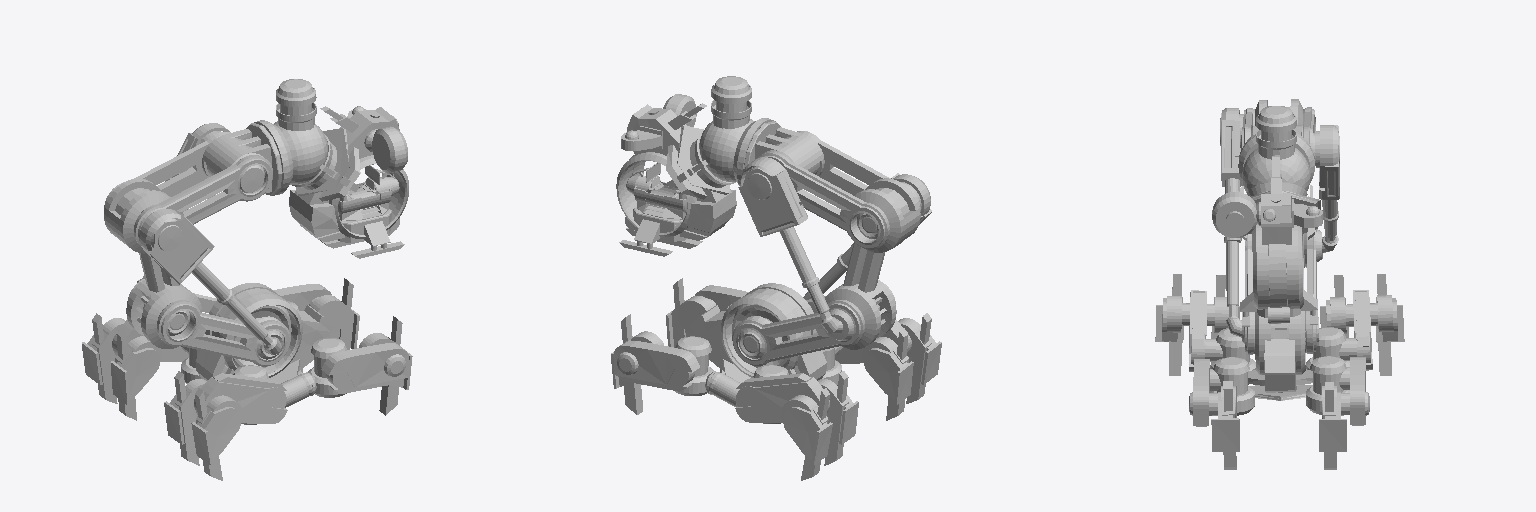
The model's file is Neck_Mech_Walker_by_3DHaupt-(Wavefront OBJ).obj.
3 renders of one model, left to right at view 1: azimuth 30°, elevation 25°; view 2: azimuth 150°, elevation 25°; view 3: azimuth 270°, elevation 25°, orthographic.
Visible parts, largest first — view 1: Neck_Mech._Neck_Mech.002, Walker_1.005, Neck_Mech_Walker, Neck_Mech.002, Neck_Mech.010_Neck_Mech.009, 1_Neck_Mech.007, Neck_Mech.013_Neck_Mech.006, Walker_Leg_5.001_Walker_Leg_5, Walker_and_Neck_Mech, Walker_Leg_5.003_Walker_1.003, Walker_Leg_2.004_Walker_Leg_2, Walker_Leg_2.002_Walker_Leg_2 (+26 smaller); view 2: Walker_1.005, Neck_Mech._Neck_Mech.002, Neck_Mech_Walker, Neck_Mech.002, Neck_Mech.012_Neck_Mech.009, 1_Neck_Mech.007, Neck_Mech.013_Neck_Mech.006, Walker_Leg_5, Walker_and_Neck_Mech, Walker_Leg_5.002_Walker_1.003, Walker_Leg_2.001_Walker_Leg_2, Walker_1.010_Walker_1 (+24 smaller); view 3: Walker_and_Neck_Mech, Walker_1, 1_Neck_Mech.007, Neck_Mech_Walker, Neck_Mech.002, Neck_Mech.012_Neck_Mech.009, Walker.018_Walker.012, Neck_Mech.010_Neck_Mech.009, Walker_1.010_Walker_1, Walker_Glas, Walker_Leg_5.001_Walker_Leg_5, Walker_Leg_L_F.001_Walker_Leg_2 (+20 smaller).
Boxes of the visible parts, x1=… form: Neck_Mech._Neck_Mech.002: x1=104, y1=132, x2=272, y2=245; Walker_1.005: x1=104, y1=178, x2=201, y2=348; Neck_Mech_Walker: x1=289, y1=107, x2=399, y2=241; Neck_Mech.002: x1=127, y1=279, x2=290, y2=366; Neck_Mech.010_Neck_Mech.009: x1=140, y1=209, x2=214, y2=284; 1_Neck_Mech.007: x1=254, y1=120, x2=327, y2=195; Neck_Mech.013_Neck_Mech.006: x1=202, y1=123, x2=282, y2=195; Walker_Leg_5.001_Walker_Leg_5: x1=321, y1=343, x2=408, y2=386; Walker_and_Neck_Mech: x1=195, y1=305, x2=334, y2=383; Walker_Leg_5.003_Walker_1.003: x1=194, y1=377, x2=287, y2=423; Walker_Leg_2.004_Walker_Leg_2: x1=191, y1=407, x2=240, y2=464; Walker_Leg_2.002_Walker_Leg_2: x1=111, y1=348, x2=159, y2=404; Walker_1.005: x1=825, y1=178, x2=920, y2=349; Neck_Mech._Neck_Mech.002: x1=753, y1=131, x2=920, y2=249; Neck_Mech_Walker: x1=627, y1=104, x2=736, y2=240; Neck_Mech.002: x1=732, y1=280, x2=895, y2=365; Neck_Mech.012_Neck_Mech.009: x1=738, y1=157, x2=807, y2=236; 1_Neck_Mech.007: x1=699, y1=118, x2=775, y2=185; Neck_Mech.013_Neck_Mech.006: x1=743, y1=121, x2=824, y2=175; Walker_Leg_5: x1=613, y1=340, x2=699, y2=384; Walker_and_Neck_Mech: x1=689, y1=305, x2=826, y2=382; Walker_Leg_5.002_Walker_1.003: x1=735, y1=377, x2=829, y2=422; Walker_Leg_2.001_Walker_Leg_2: x1=783, y1=407, x2=832, y2=464; Walker_1.010_Walker_1: x1=721, y1=283, x2=817, y2=377; Walker_and_Neck_Mech: x1=1248, y1=339, x2=1312, y2=400; Walker_1: x1=1252, y1=224, x2=1303, y2=309; 1_Neck_Mech.007: x1=1238, y1=134, x2=1314, y2=192; Neck_Mech_Walker: x1=1247, y1=182, x2=1320, y2=245; Neck_Mech.002: x1=1244, y1=229, x2=1316, y2=354; Neck_Mech.012_Neck_Mech.009: x1=1315, y1=125, x2=1339, y2=199; Walker.018_Walker.012: x1=1212, y1=192, x2=1260, y2=237; Neck_Mech.010_Neck_Mech.009: x1=1220, y1=108, x2=1243, y2=186; Walker_1.010_Walker_1: x1=1255, y1=311, x2=1305, y2=374; Walker_Glas: x1=1269, y1=244, x2=1287, y2=307; Walker_Leg_5.001_Walker_Leg_5: x1=1193, y1=359, x2=1209, y2=425; Walker_Leg_L_F.001_Walker_Leg_2: x1=1319, y1=391, x2=1346, y2=451.
Bounding box in the file's own units: 6.34 × 6.96 × 4.79.